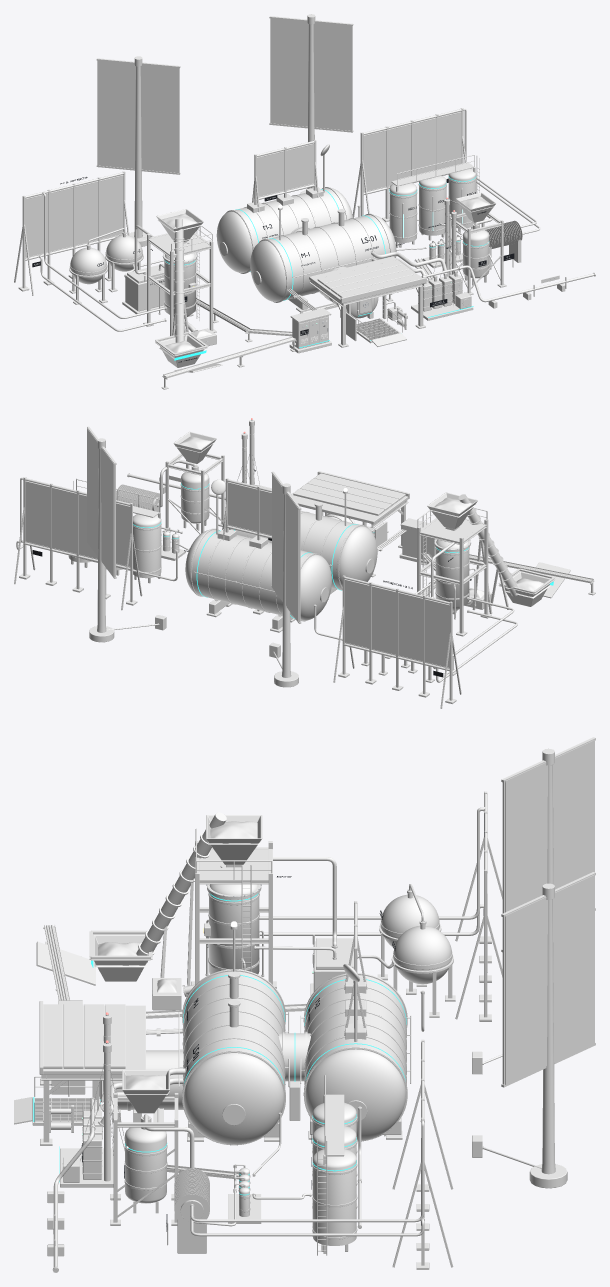
The model's file is life_support_game.glb.
3 views of the same model, one above another, from view 1: azimuth 30°, elevation 25°; view 2: azimuth 150°, elevation 25°; view 3: azimuth 270°, elevation 25° (orthographic). The views are drawn at different scales.
Visible parts, largest first — view 1: al_ring, solar_panel, airlock, rad0_panel, al_lamp_a_base, al_head, blow_hose, co2_blower, cond_to_filt; view 2: al_ring, al_lamp_a_base, airlock, rad0_panel, al_head, blow_hose, cond_to_filt, solar_panel; view 3: al_lamp_a_base, al_ring, airlock, al_head, blow_hose, cond_to_filt, co2_blower, filt_can_cyan, solar_panel.
Boxes of the visible parts, bbox=[...] form: al_ring: bbox=[14, 16, 595, 387]; solar_panel: bbox=[97, 18, 352, 172]; airlock: bbox=[144, 154, 496, 367]; rad0_panel: bbox=[25, 112, 461, 257]; al_lamp_a_base: bbox=[18, 14, 565, 389]; al_head: bbox=[70, 144, 522, 348]; blow_hose: bbox=[34, 108, 594, 377]; co2_blower: bbox=[125, 274, 471, 313]; cond_to_filt: bbox=[87, 205, 462, 376]; al_ring: bbox=[14, 426, 594, 708]; al_lamp_a_base: bbox=[19, 419, 595, 703]; airlock: bbox=[68, 431, 549, 618]; rad0_panel: bbox=[25, 482, 449, 667]; al_head: bbox=[116, 479, 435, 620]; blow_hose: bbox=[16, 454, 592, 682]; cond_to_filt: bbox=[75, 527, 592, 640]; solar_panel: bbox=[114, 465, 300, 621]; al_lamp_a_base: bbox=[14, 740, 594, 1269]; al_ring: bbox=[34, 737, 595, 1272]; airlock: bbox=[34, 815, 406, 1245]; al_head: bbox=[103, 894, 451, 1226]; blow_hose: bbox=[46, 807, 541, 1272]; cond_to_filt: bbox=[48, 884, 424, 1228]; co2_blower: bbox=[63, 941, 482, 1182]; filt_can_cyan: bbox=[125, 893, 406, 1195]; solar_panel: bbox=[502, 782, 504, 1084].
Size of the model in its own units: 38.7 by 15.51 by 27.75.
Materials: 18 (18 with a texture image).
